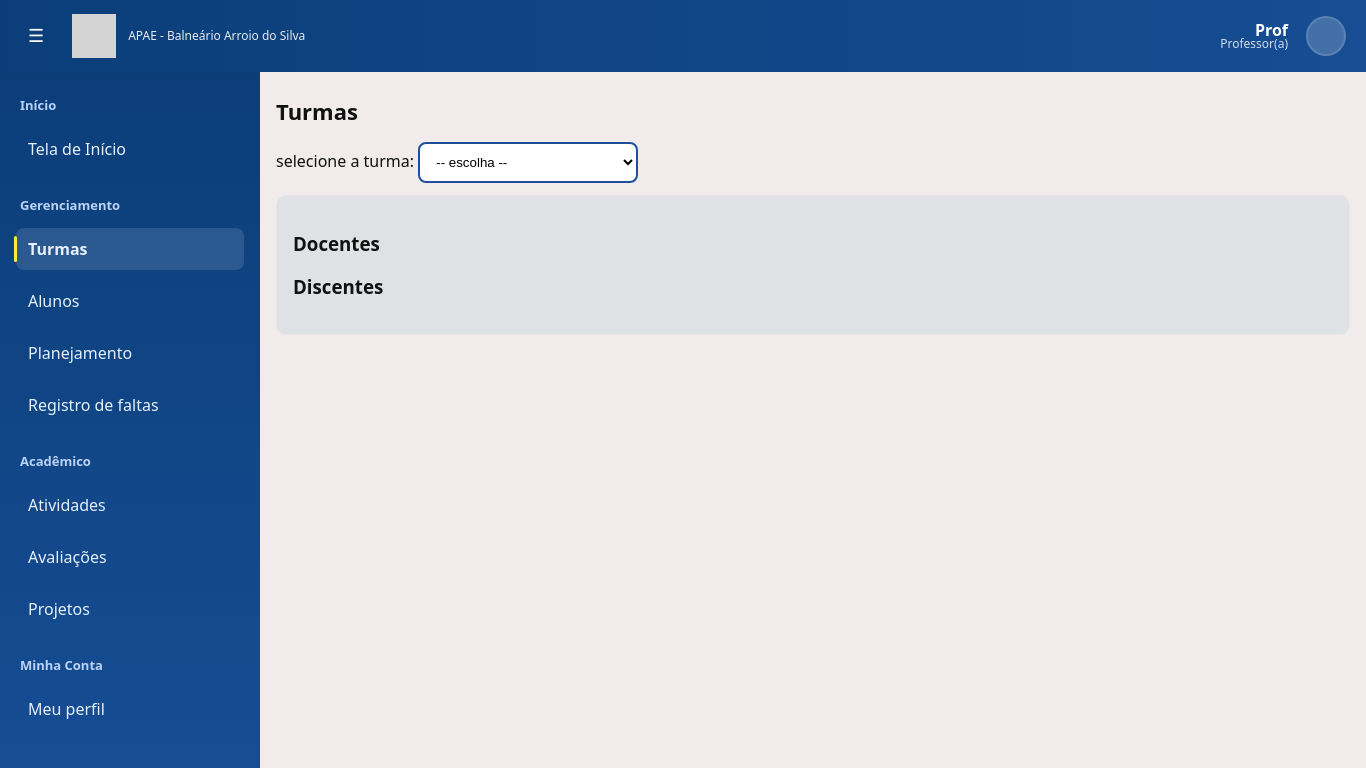
Turmas - Vincular e remover docente › adiciona e remove um docente com disciplinas
The width and height of the screenshot is (1366, 768).
Select "Turma 1" in the dropdown with test id "turmas-class-select" at (528, 163), box [418,142,638,183]
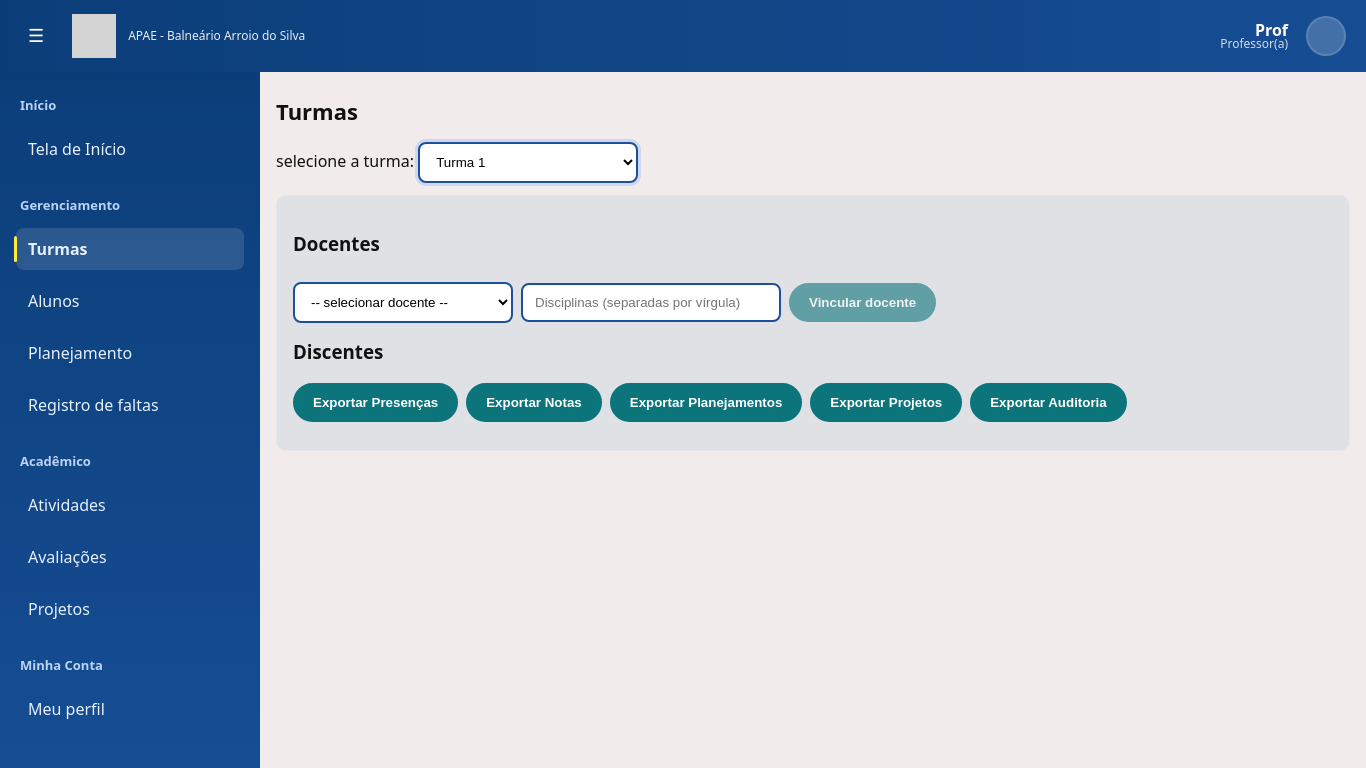
Note: Assign teacher
Select "Docente A" in the dropdown with test id "turmas-teacher-select" at (403, 303), box [293,282,513,323]
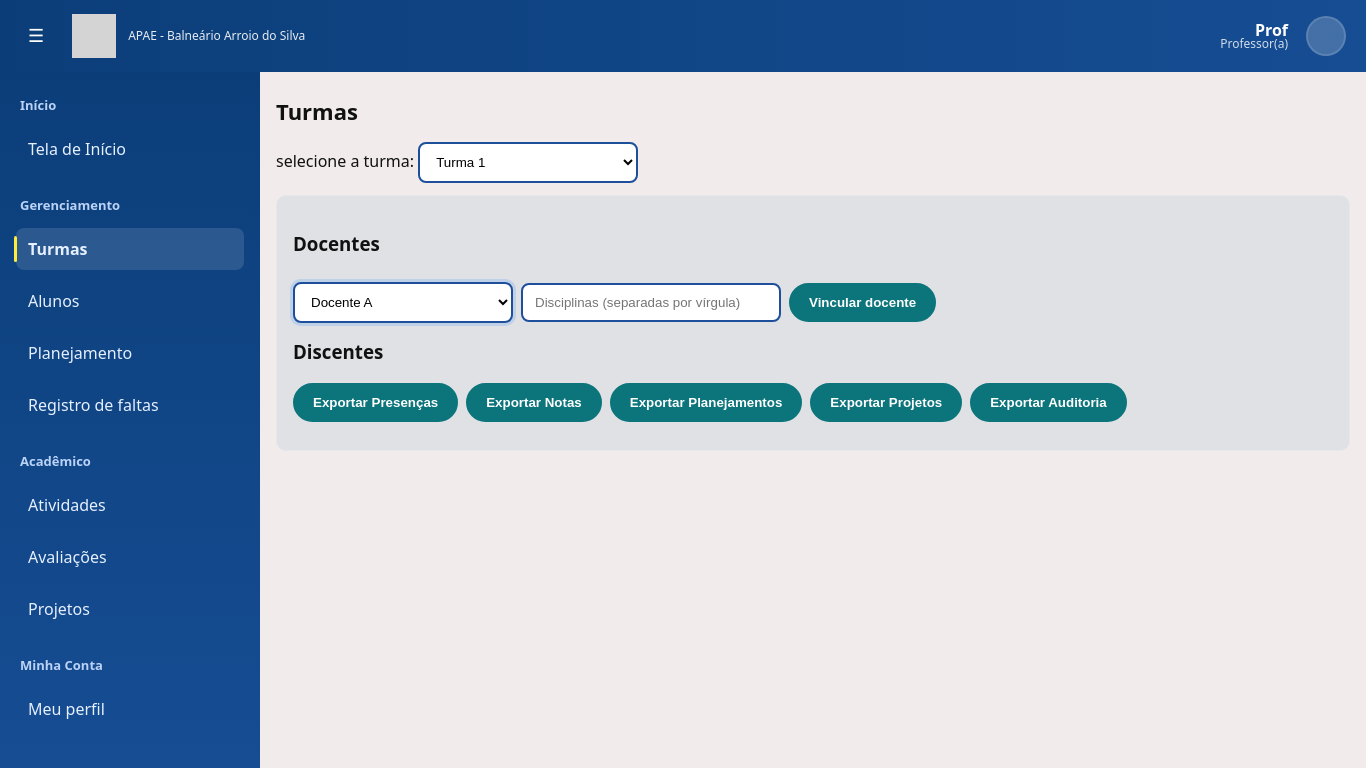
Type "Artes, Matemática" into the field with test id "turmas-disciplines-input" at (651, 303), box [521,283,781,322]
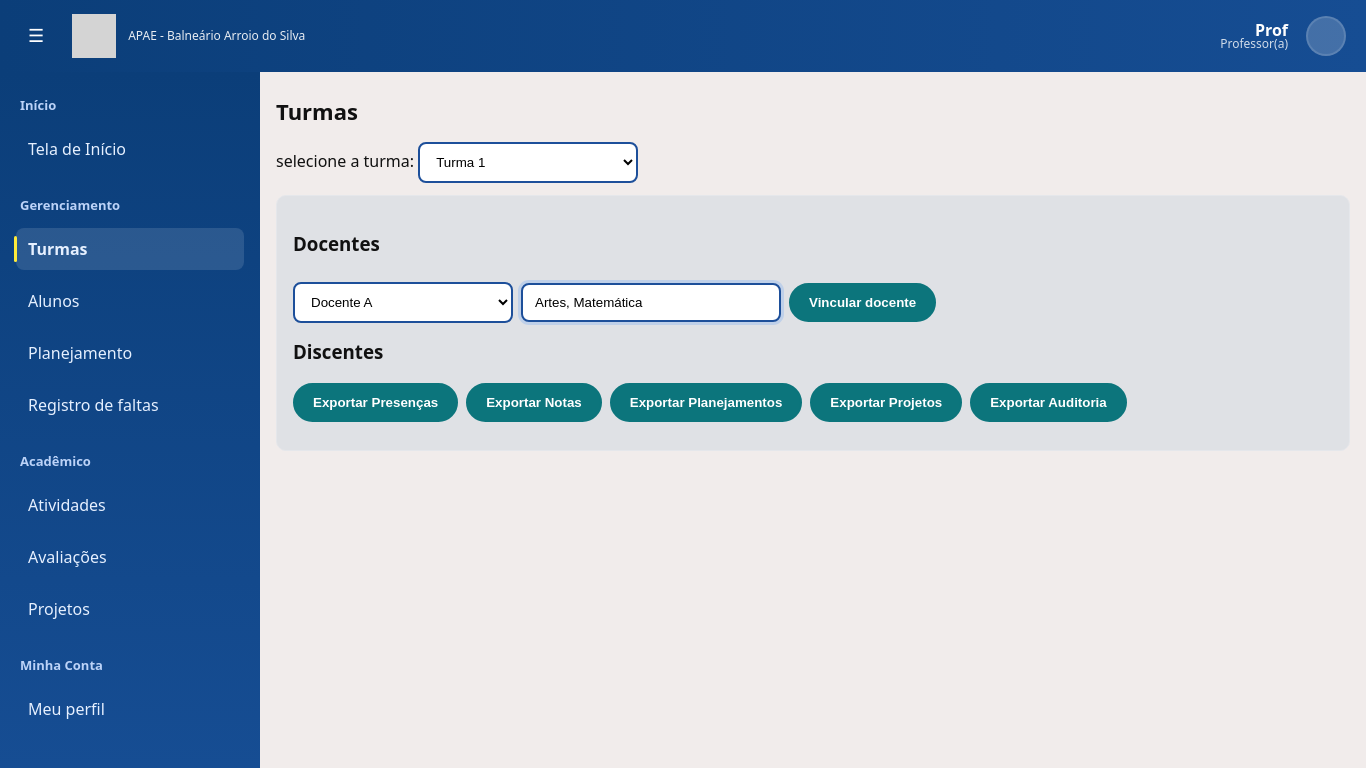
Click the button with test id "turmas-assign-button" at (863, 303), box [789,283,936,322]
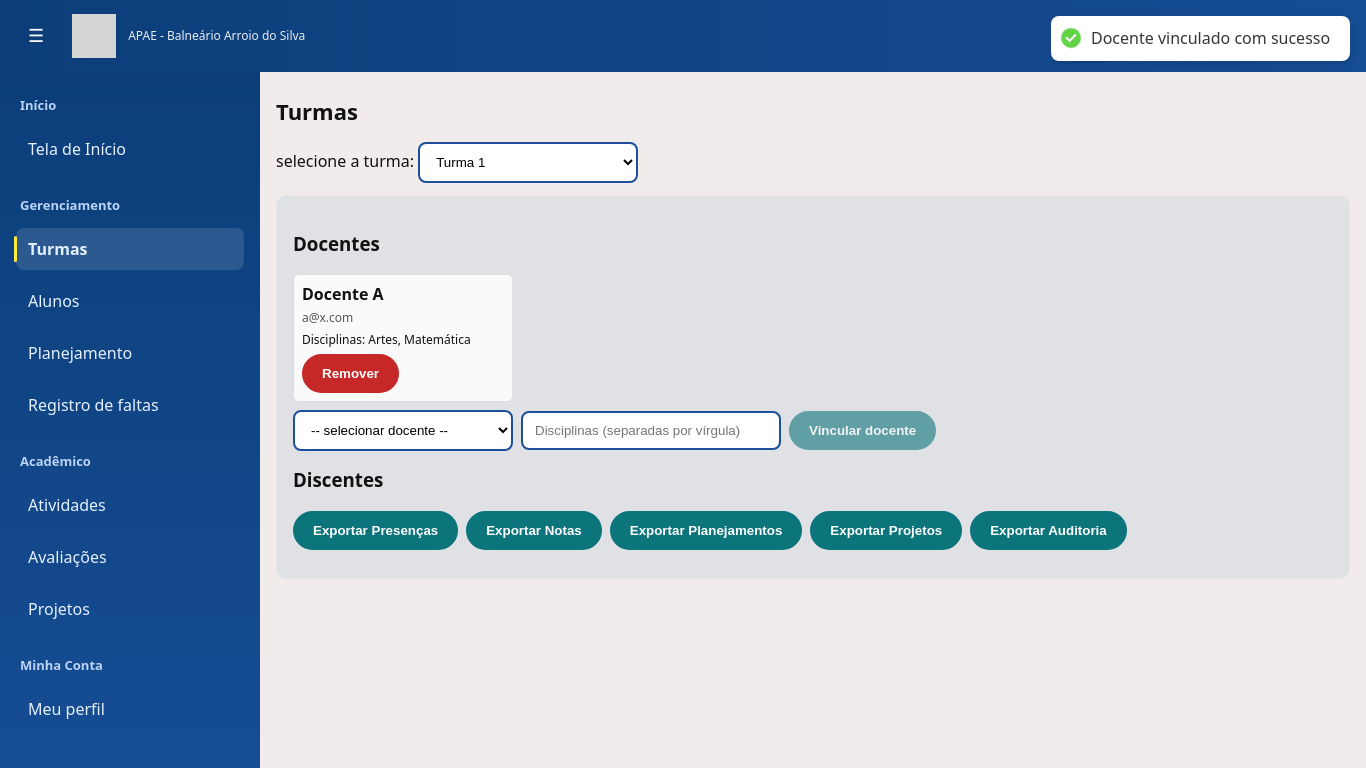
Expected: the text "Docente A" is shown, [302,283,384,305]
Click the button with test id "turmas-remove-button" at (351, 374), box [302,354,399,393]
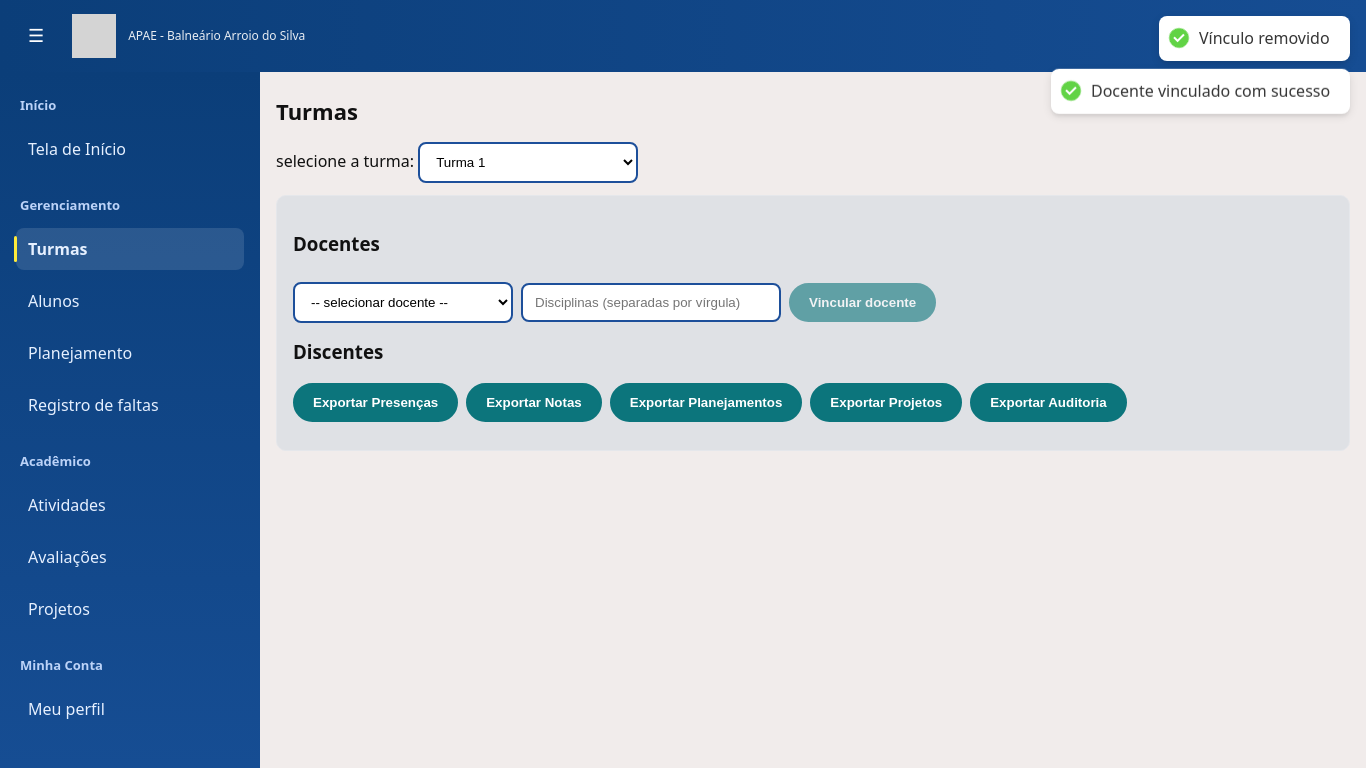
Expected: the element with test id "turmas-teacher-card" is gone
